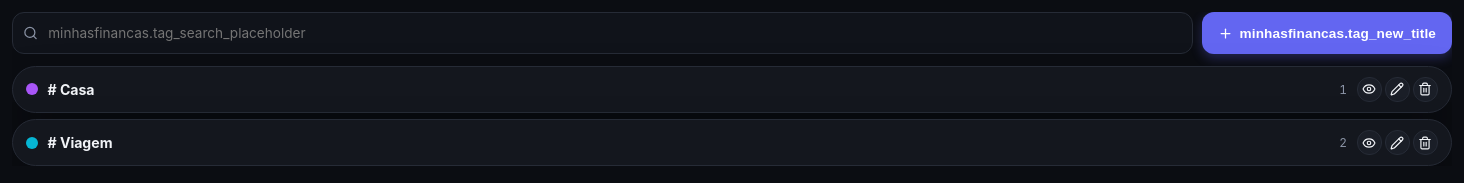
MFTagsManager — gestão de tags › lista com utilização e filtra pela busca
Expected: the element with test id "mf-tags-manager-row-tag-1" is shown, [12,119,1452,166]
Expected: the text with test id "mf-tags-manager-usage-tag-1" reads "2", [1339,135,1347,150]
Step 1. Type "cas" into the field with test id "mf-tags-manager-search" → (602, 33), box [12,12,1193,54]
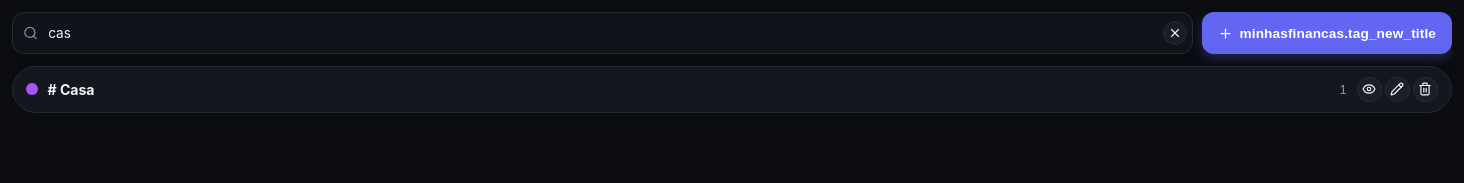
Expected: the element with test id "mf-tags-manager-row-tag-2" is shown, [12,66,1452,113]
Now the element with test id "mf-tags-manager-row-tag-1" is gone
